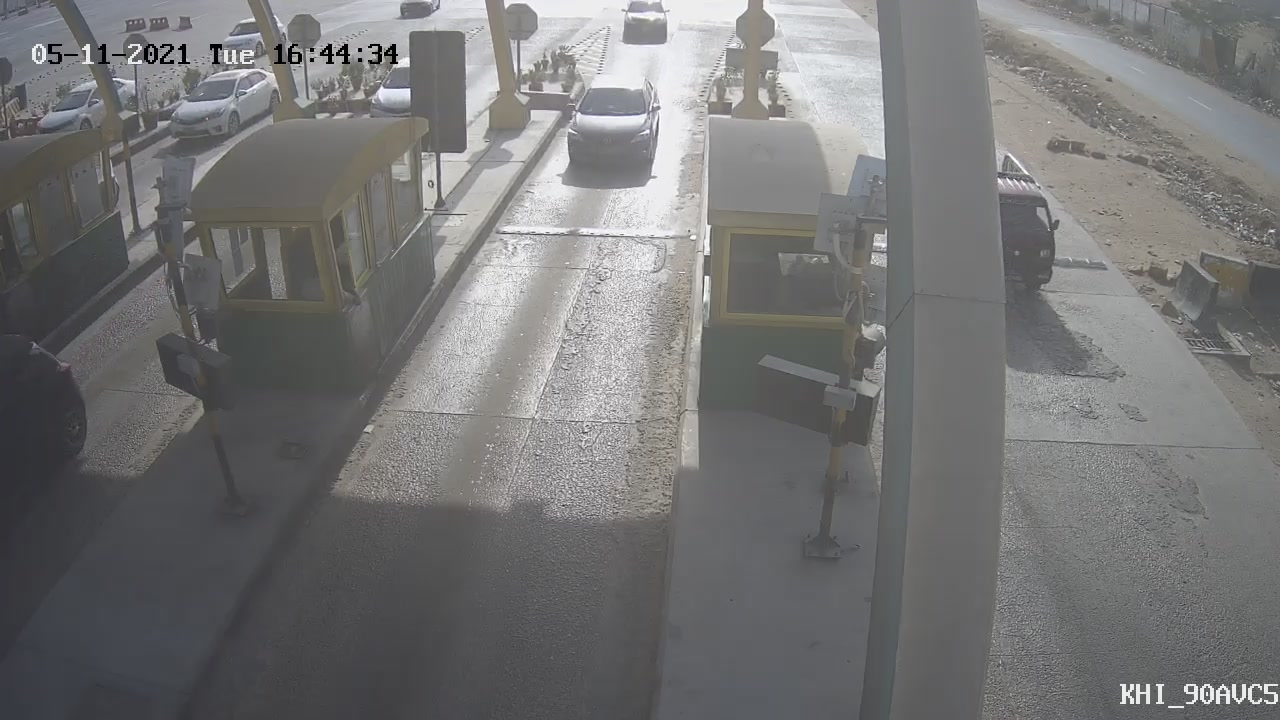F1: (555, 65, 672, 196)
